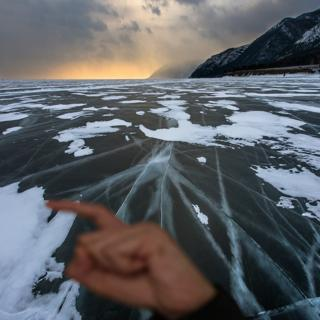WHY: (38, 189, 211, 313)
